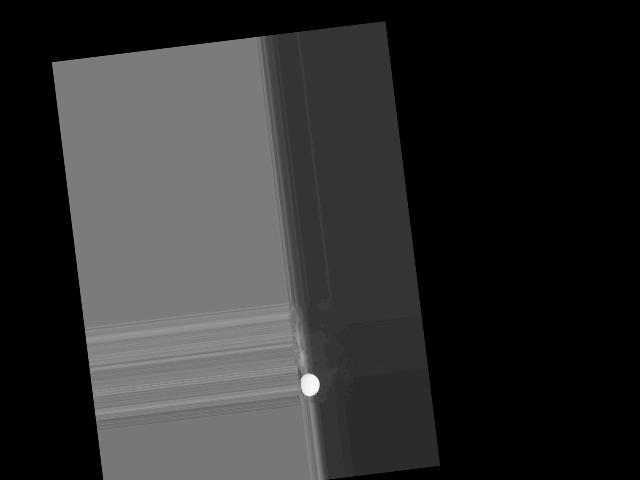egg: (299, 371, 320, 396)
